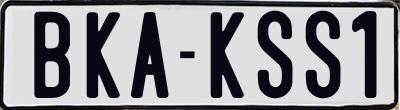1: (352, 8, 381, 100)
A: (129, 11, 172, 101)
B: (33, 12, 71, 100)
K: (85, 9, 121, 100), (211, 9, 245, 99)
S: (255, 8, 295, 101), (304, 9, 340, 101)
